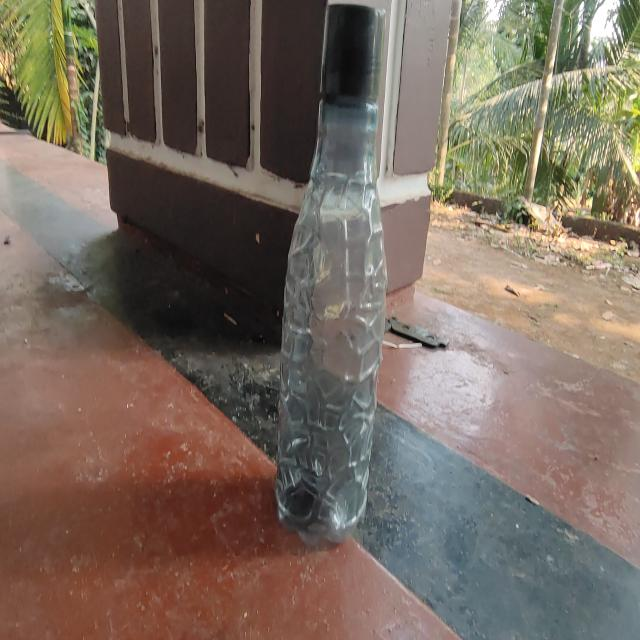plastic: (275, 0, 388, 553)
